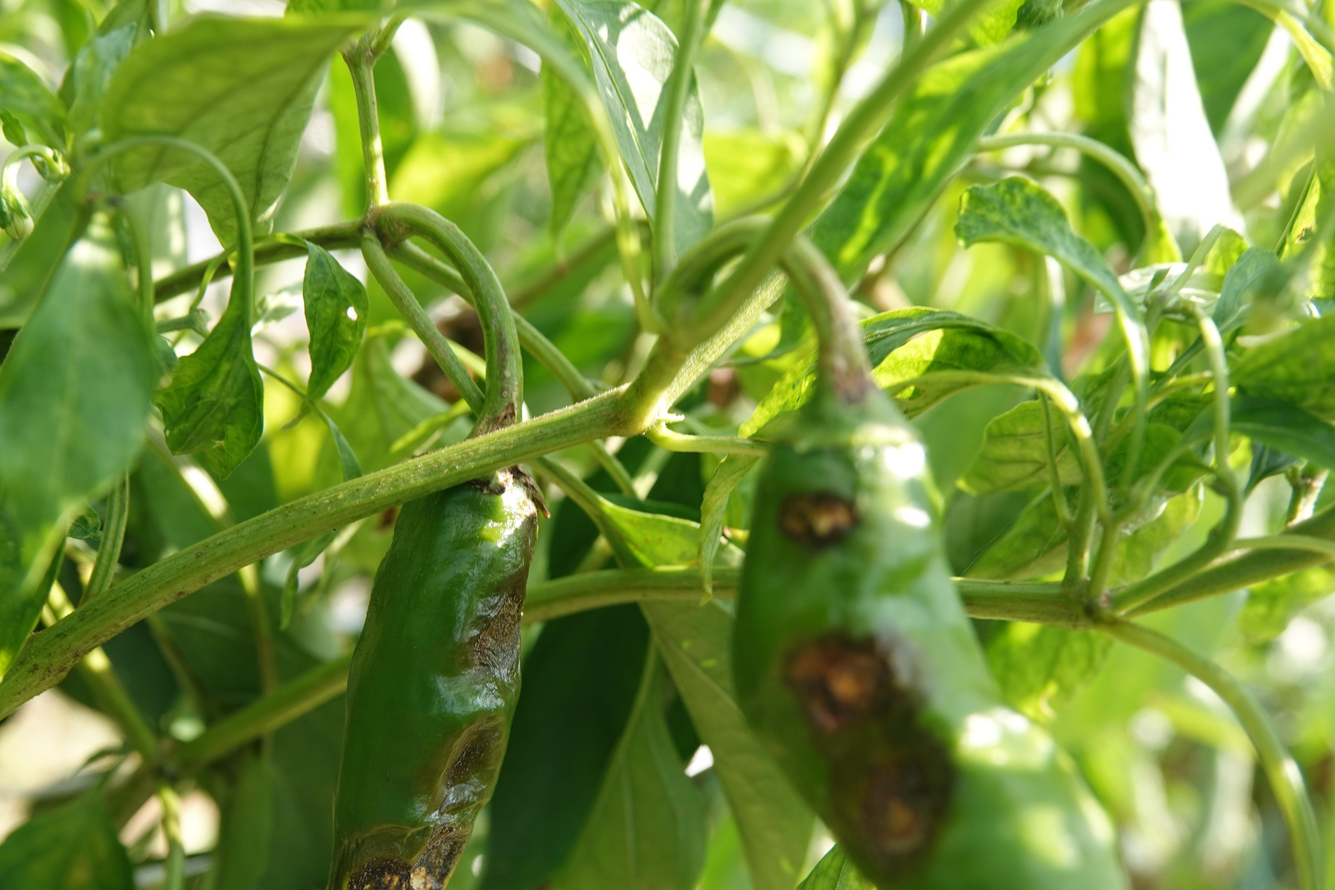Busuk Buah Antraknosa: (727, 377, 1124, 890), (324, 457, 546, 887)
